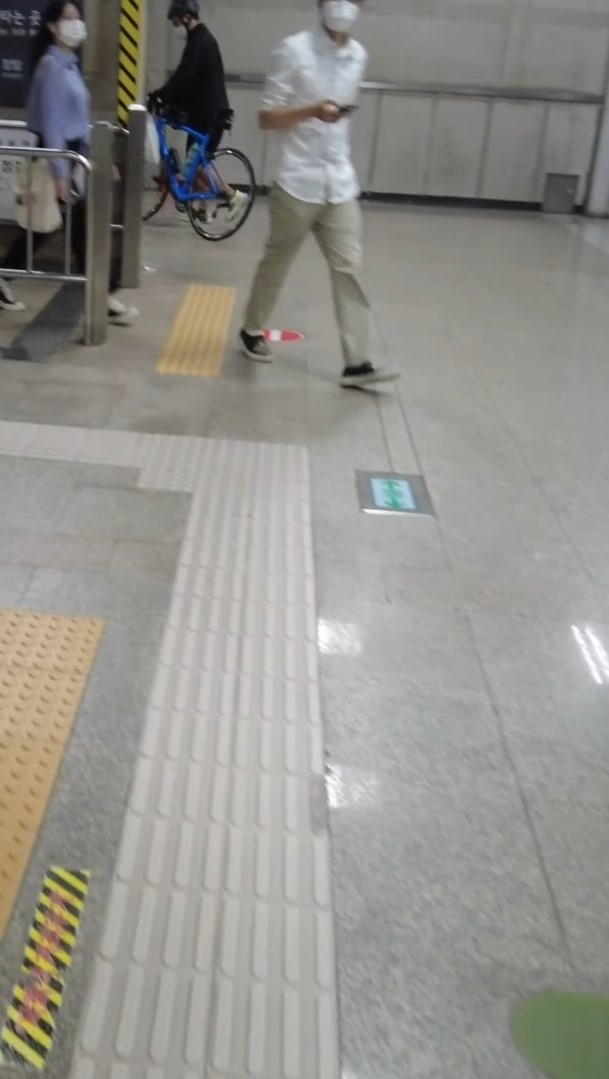guideBlock: (87, 952, 203, 1064), (108, 874, 231, 974), (213, 985, 335, 1079), (235, 915, 336, 994), (233, 745, 328, 827), (220, 827, 328, 896), (116, 822, 222, 892), (131, 759, 232, 822)
